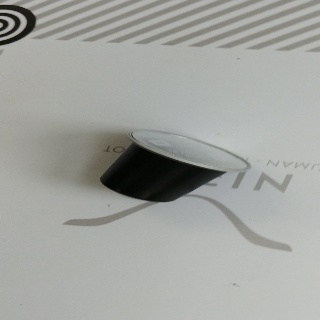capsule_10: (98, 128, 252, 202)
